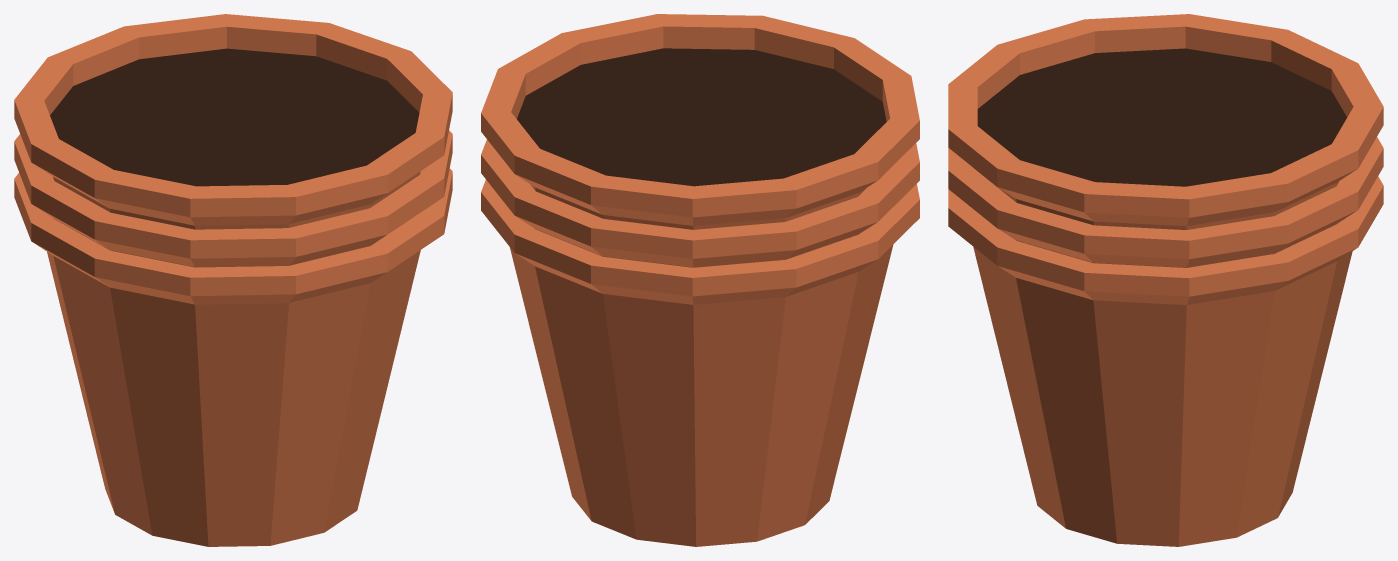
Rendered from 3Pots.fbx.
The picture shows the model from 3 angles, left to right: view 1: azimuth 30°, elevation 25°; view 2: azimuth 150°, elevation 25°; view 3: azimuth 270°, elevation 25°; orthographic projection.
Parts seen in each view (by area): view 1: Cylinder; view 2: Cylinder; view 3: Cylinder.
Boxes of the visible parts, box(x1,y1,x2,y2) form: Cylinder: box(14, 14, 452, 546); Cylinder: box(481, 14, 919, 546); Cylinder: box(948, 14, 1383, 546).
Bounding box in the file's own units: 278 × 270 × 276.
